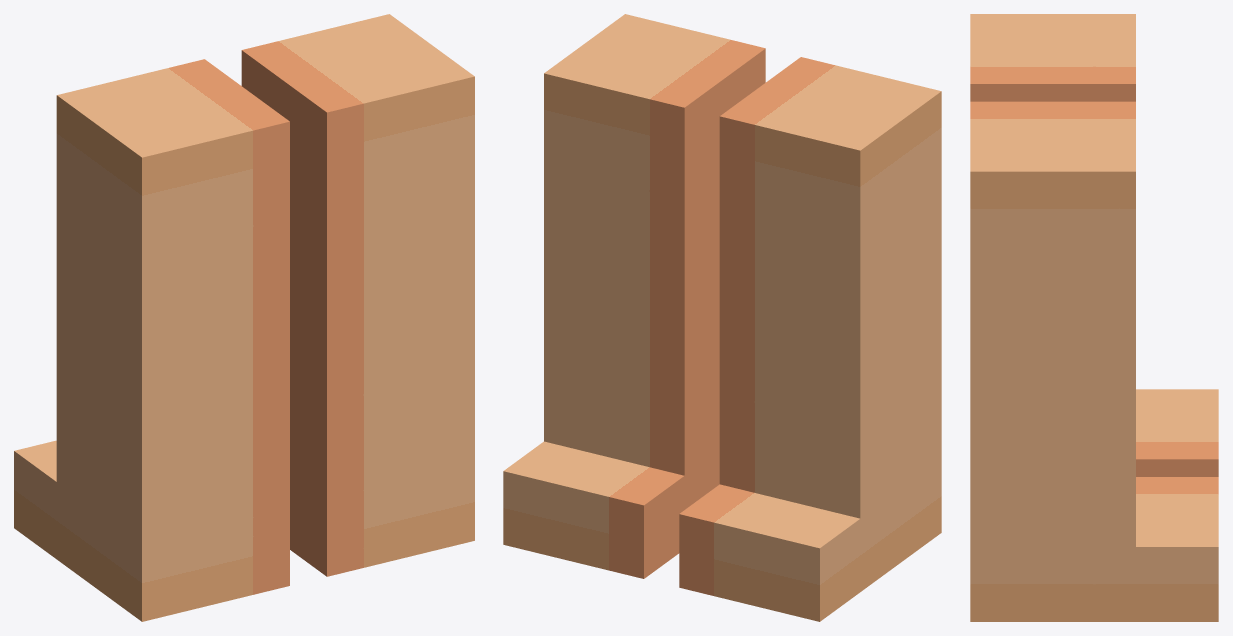
Rendered from naked.glb.
The picture shows the model from 3 angles, left to right: view 1: azimuth 30°, elevation 25°; view 2: azimuth 150°, elevation 25°; view 3: azimuth 270°, elevation 25°; orthographic projection. The views are drawn at different scales.
Parts seen in each view (by area): view 1: legLeft, legRight, footLeft, footRight; view 2: legLeft, legRight, footLeft, footRight; view 3: legRight, footRight, legLeft, footLeft.
Boxes of the visible parts, x1,y1,x2,y2 form: legLeft: (56, 59, 289, 544); legRight: (241, 14, 474, 499); footLeft: (14, 440, 289, 621); footRight: (290, 463, 474, 576); legLeft: (719, 57, 941, 518); legRight: (544, 14, 765, 475); footLeft: (679, 459, 941, 621); footRight: (503, 441, 719, 578); legRight: (970, 101, 1135, 546); footRight: (970, 477, 1218, 621); legLeft: (970, 14, 1135, 101); footLeft: (1136, 389, 1218, 476).
Size of the model in its own units: 0.5625 by 0.75 by 0.375.
Materials: 2 (2 with a texture image).
